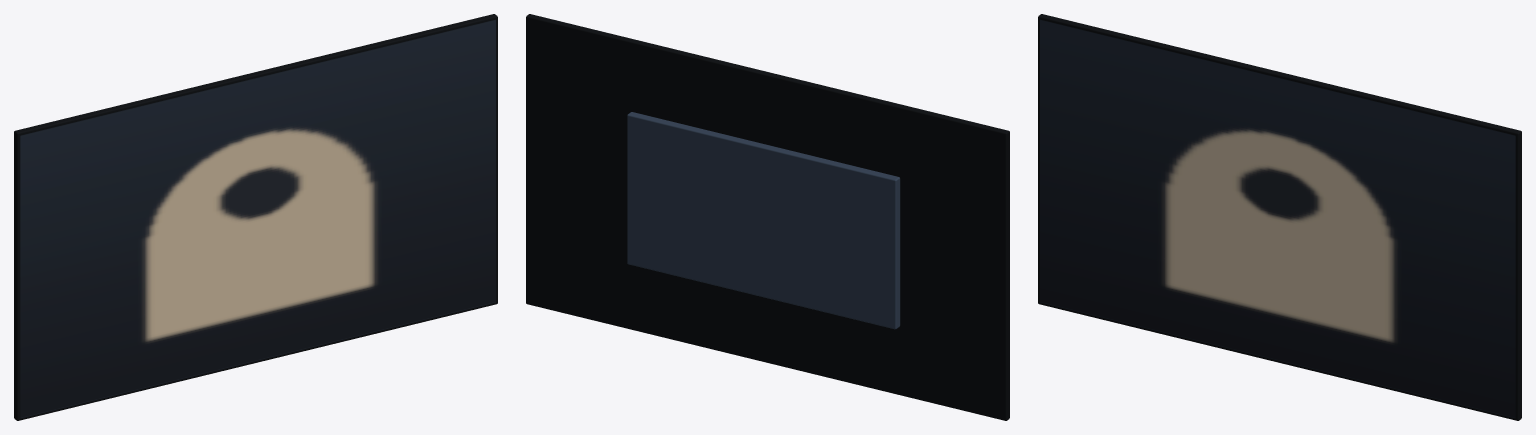
Rendered from obj_wall_tv_65.glb.
3 views of the same model, side by side, from view 1: azimuth 30°, elevation 25°; view 2: azimuth 150°, elevation 25°; view 3: azimuth 330°, elevation 25° (orthographic).
Parts seen in each view (by area): view 1: obj_wall_tv_65; view 2: obj_wall_tv_65; view 3: obj_wall_tv_65.
Part boxes in pixels (x1=…): obj_wall_tv_65: x1=14, y1=14, x2=497, y2=420; obj_wall_tv_65: x1=526, y1=14, x2=1009, y2=420; obj_wall_tv_65: x1=1038, y1=14, x2=1521, y2=420.
Size of the model in its own units: 1.45 by 0.83 by 0.046.
3 materials, 1 textured.
